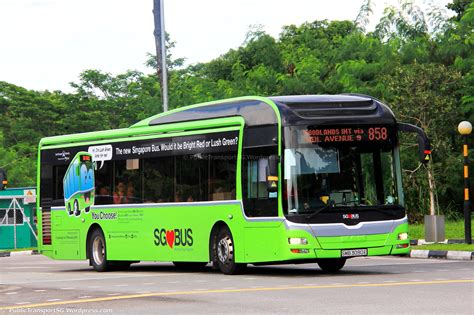bus: (37, 97, 404, 273)
